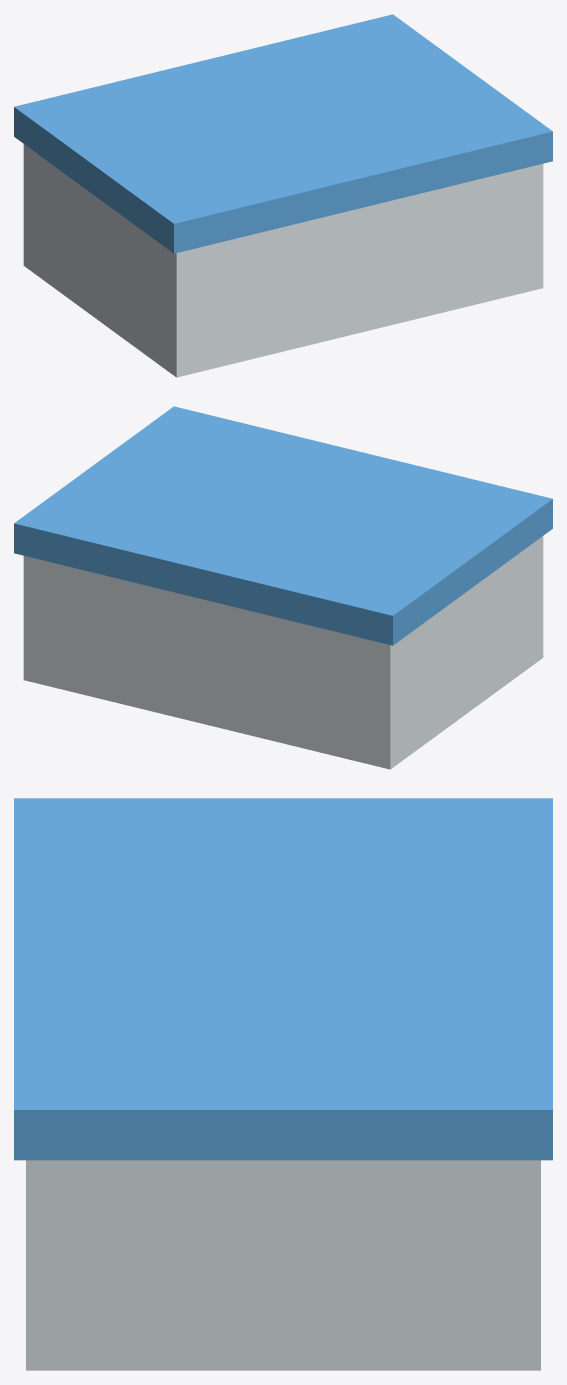
File: meal-container.glb
The picture shows the model from 3 angles, top to bottom: view 1: azimuth 30°, elevation 25°; view 2: azimuth 150°, elevation 25°; view 3: azimuth 270°, elevation 25°; orthographic projection. The views are drawn at different scales.
Visible parts, largest first — view 1: meal_lid, meal_glass; view 2: meal_lid, meal_glass; view 3: meal_lid, meal_glass.
Boxes of the visible parts, box(x1,y1,x2,y2) form: meal_lid: box(14, 14, 552, 253); meal_glass: box(23, 144, 543, 377); meal_lid: box(14, 406, 552, 645); meal_glass: box(23, 536, 543, 769); meal_lid: box(14, 798, 552, 1160); meal_glass: box(26, 1160, 540, 1370).
Size of the model in its own units: 0.186 by 0.074 by 0.136.
